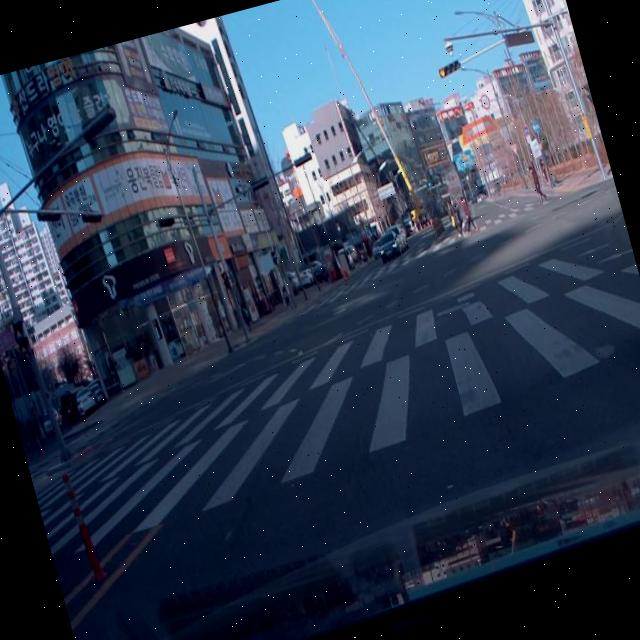crosswalk: (36, 254, 640, 557), (300, 195, 563, 315)
